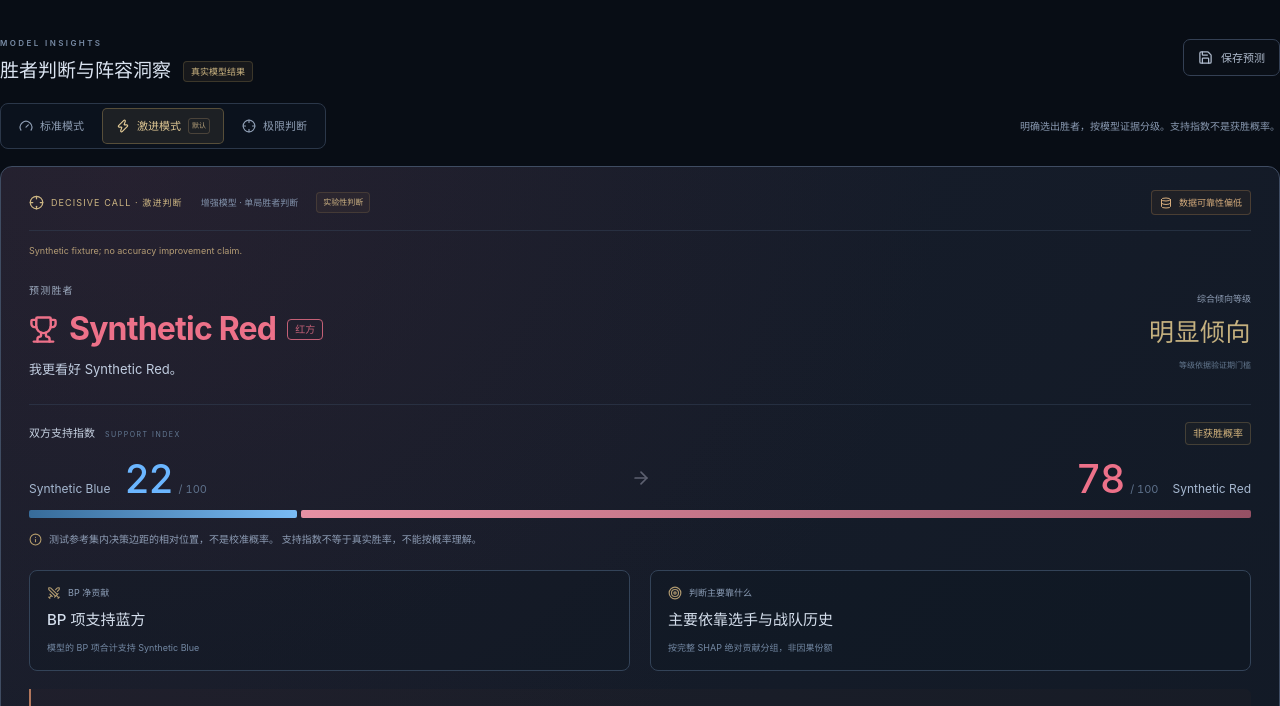
Test: judgment presentation with synthetic unit fixtures only › does not alter scores, winner, grade or calibrated probability in extreme mode
This screenshot has width=1280, height=706.
Click the button with test id "mode-extreme".
click(274, 126)  # box [228,108,321,144]
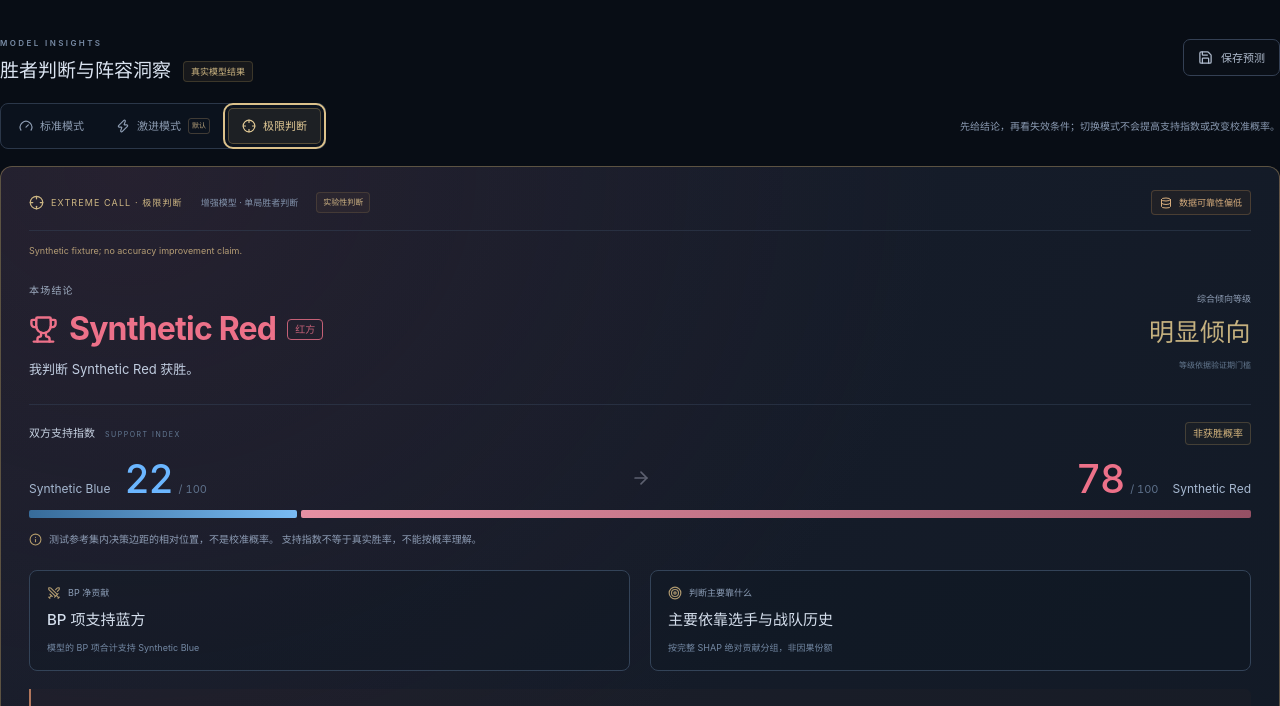
Expected: the element with test id "red-support" reads "78/ 100", [1076,459,1158,498]
Result: the text "我判断 Synthetic Red 获胜。" is shown at [29,361,199,377]
